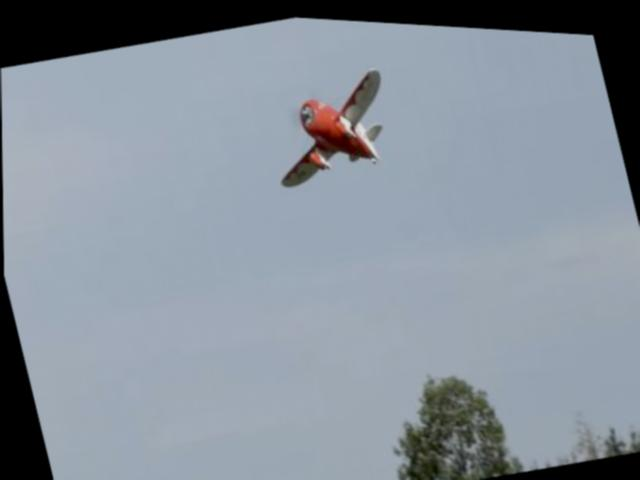uav: (255, 47, 411, 198)
